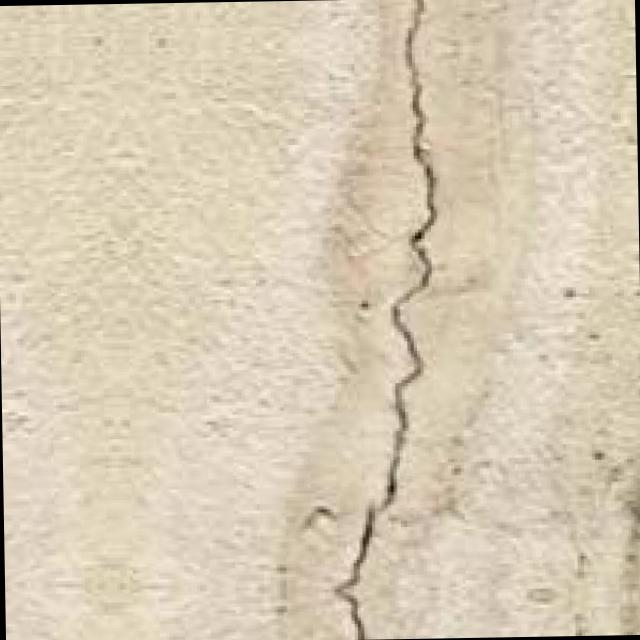crack: (247, 0, 469, 638)
